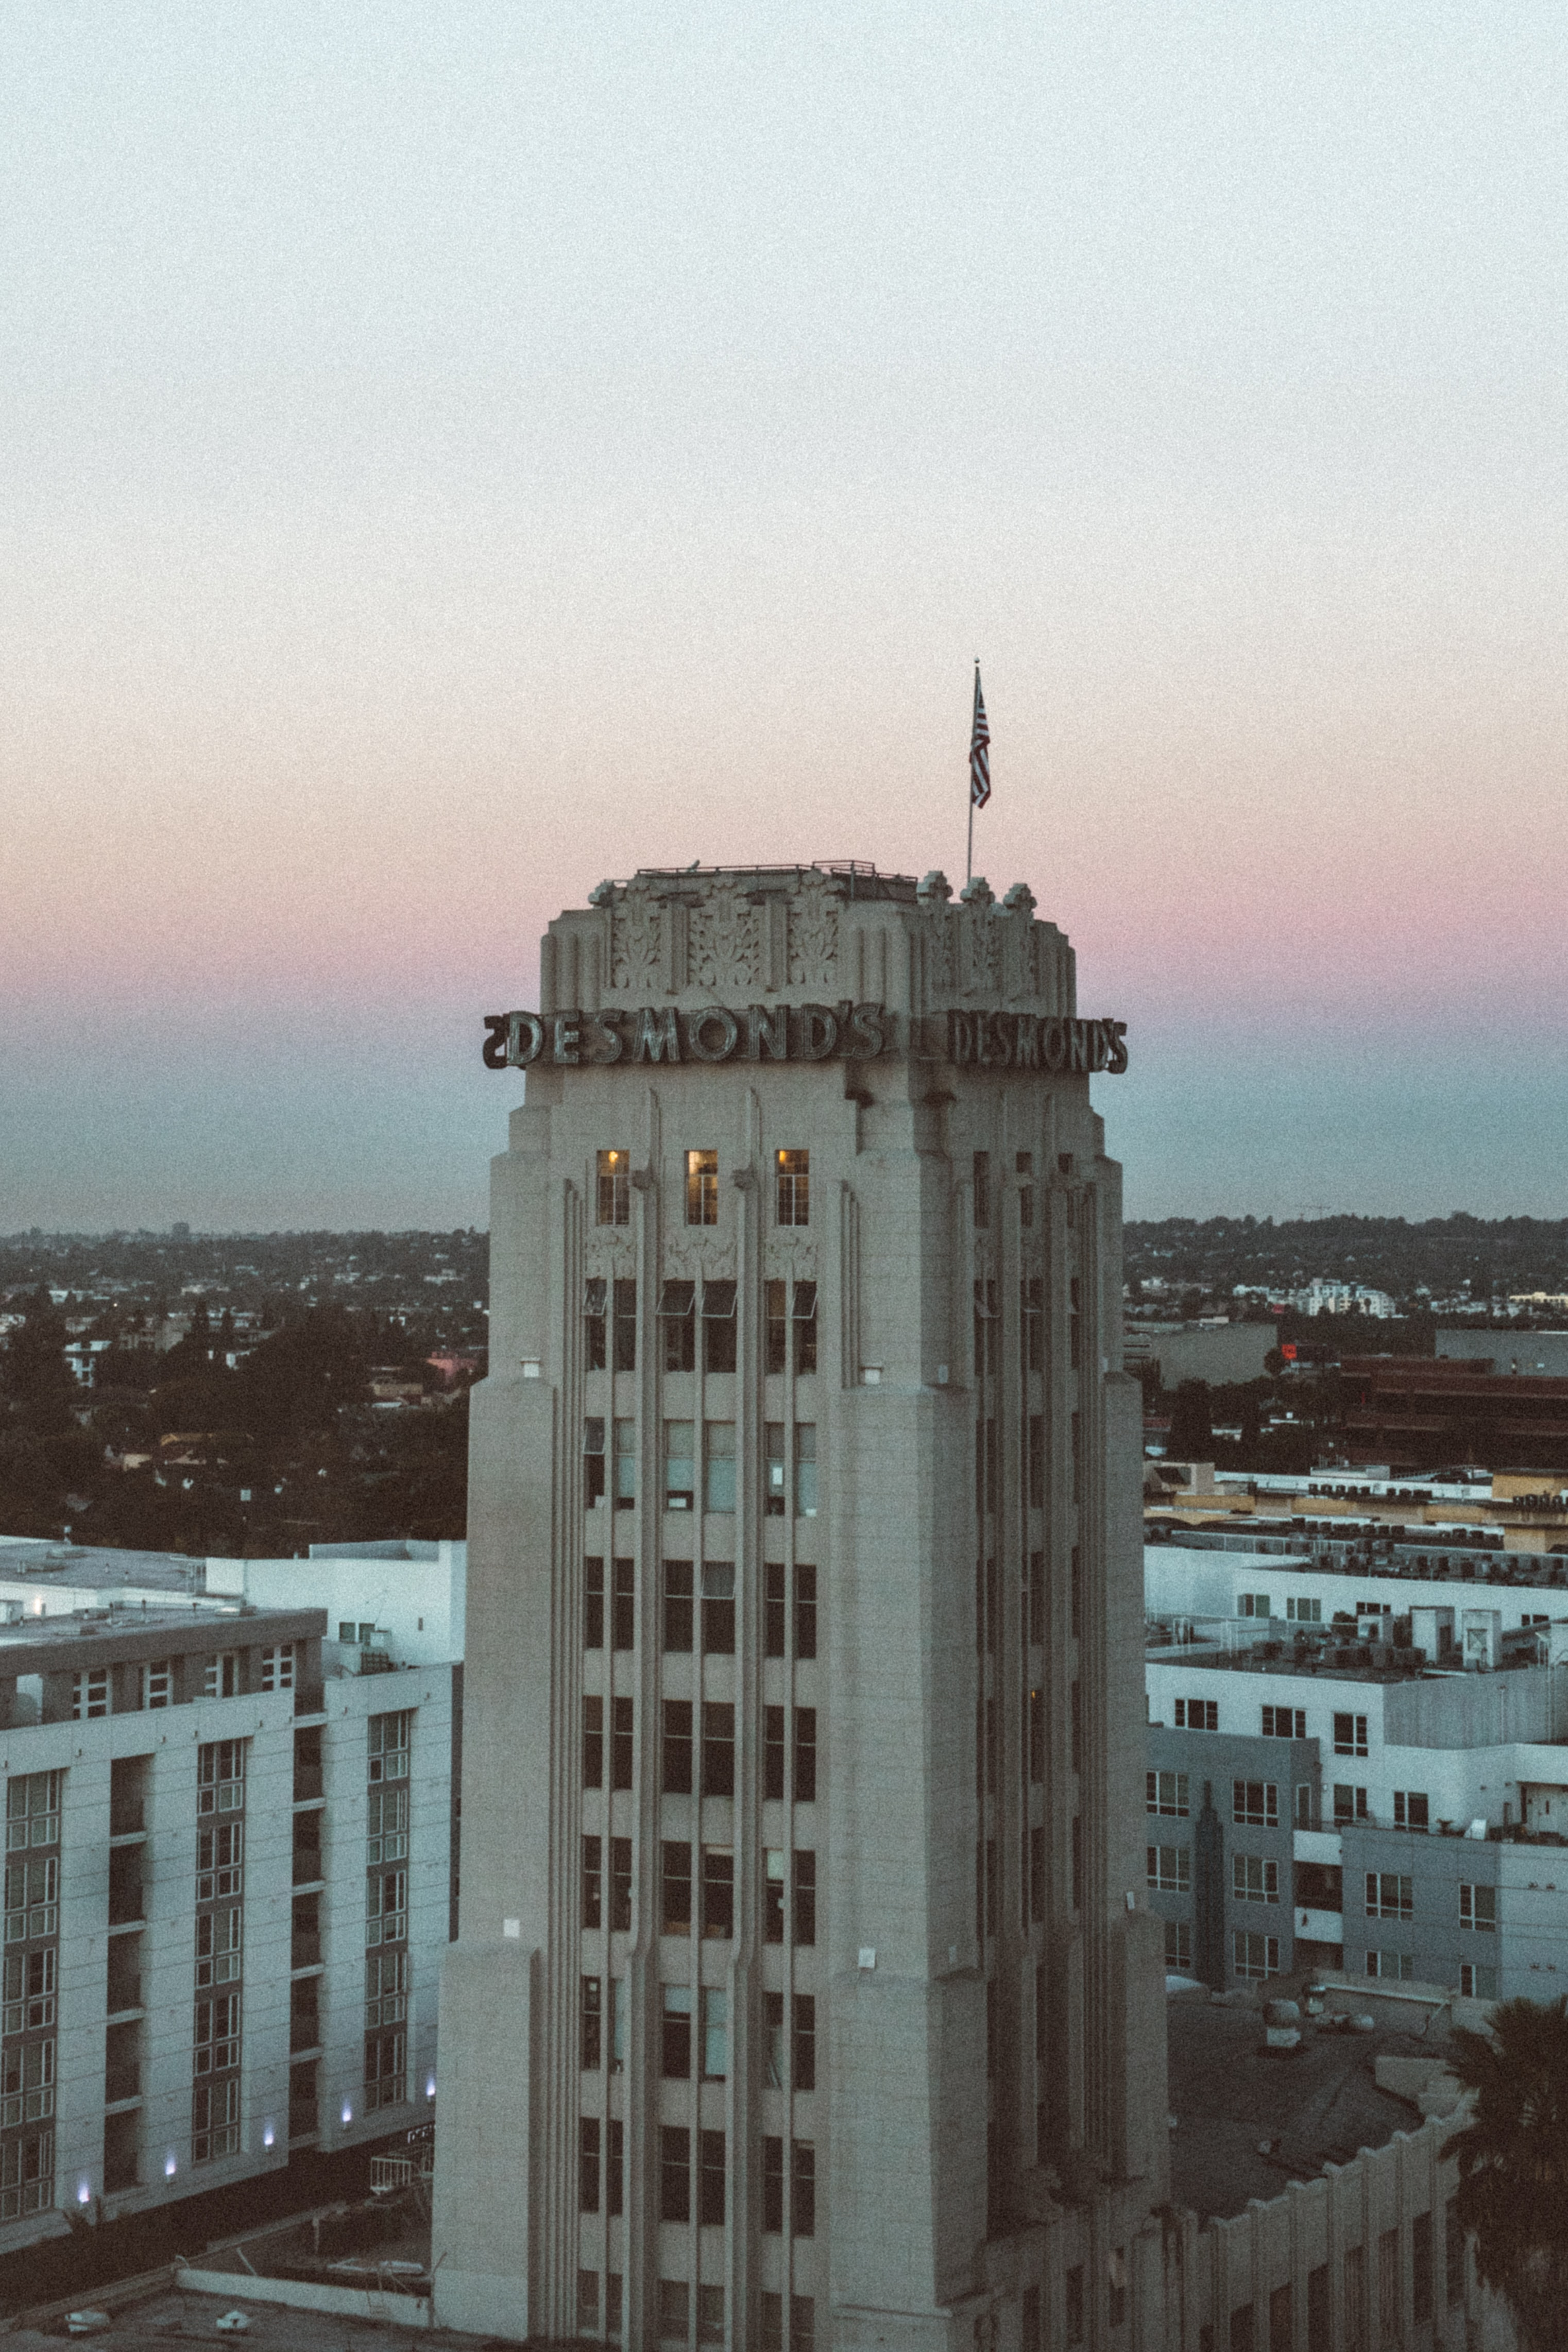Flag: (962, 661, 1006, 812)
